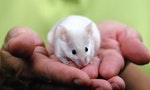mouse: (44, 13, 103, 68)
